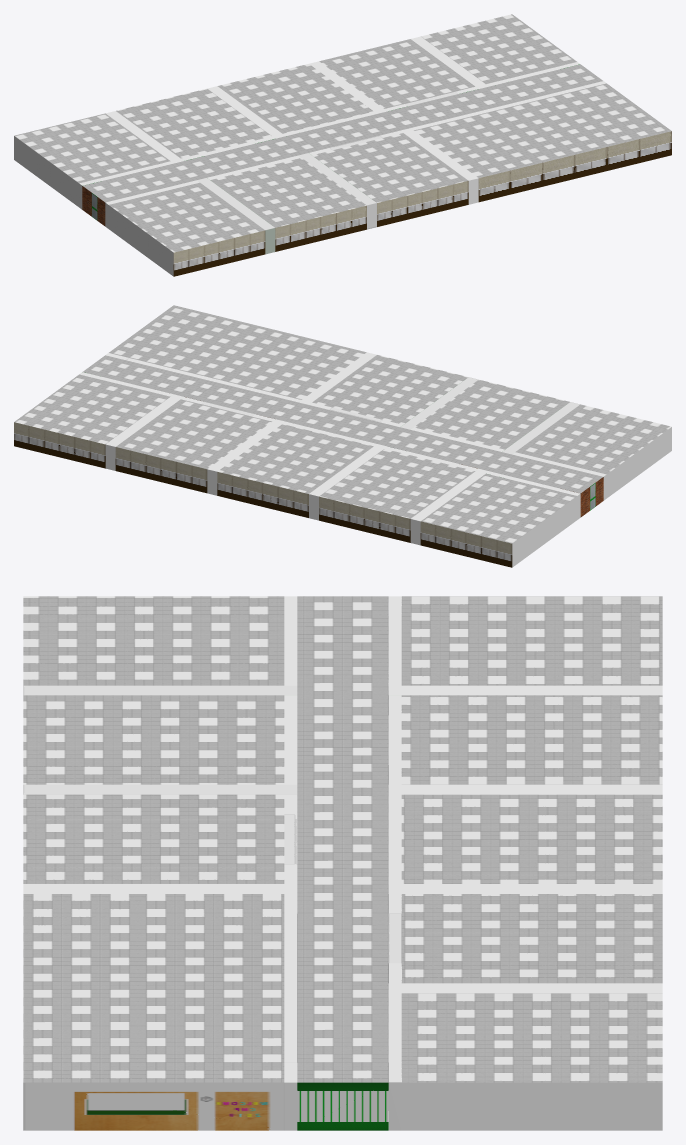
3 views of the same model, one above another, from view 1: azimuth 30°, elevation 25°; view 2: azimuth 150°, elevation 25°; view 3: azimuth 270°, elevation 25° (orthographic). The views are drawn at different scales.
Parts seen in each view (by area): view 1: Cieling_Plane.005, Class1CurtainsWall_Plane.032, Class4CurtainsWall_Plane.036, Class3CurtainsWall_Plane.034, Class2CurtainsWall_Plane.033, Class4Wall_Plane.051, Lab4Wall_Plane.050, Class1-Class2Wall_Plane.047, Class3-Class4Wall_Plane.045, Class2-Class3Wall_Plane.046, Lab3-Lab4Wall_Plane.044, Lab2-Lab3Wall_Plane.029 (+4 smaller); view 2: Cieling_Plane.005, Lab4CurtainsWall_Plane.039, Lab1CurtainsWall_Plane.042, LibraryCurtains_Plane.043, Lab2CurtainsWall_Plane.041, Lab3CurtainsWall_Plane.040, Class4Wall_Plane.051, Lab4Wall_Plane.050, Library-Lab1Wall_Plane.038, Lab1-Lab2Wall_Plane.035, Lab3-Lab4Wall_Plane.044, Lab2-Lab3Wall_Plane.029 (+5 smaller); view 3: Cieling_Plane.005, LibraryWall_Plane.049, Class1Wall_Plane.030, Gate_Plane.048, Class2-Class3Wall_Plane.046, Library-Lab1Wall_Plane.038, Lab2-Lab3Wall_Plane.029, Class3-Class4Wall_Plane.045, Lab3-Lab4Wall_Plane.044, Lab1-Lab2Wall_Plane.035, Class1-Class2Wall_Plane.047, Class1-CorridorWall_Plane.027 (+2 smaller).
Part boxes in pixels (x1,y1,x2,y2): Cieling_Plane.005: (14, 14, 671, 252); Class1CurtainsWall_Plane.032: (478, 131, 671, 202); Class4CurtainsWall_Plane.036: (173, 230, 265, 276); Class3CurtainsWall_Plane.034: (275, 205, 366, 251); Class2CurtainsWall_Plane.033: (377, 181, 468, 226); Class4Wall_Plane.051: (108, 205, 173, 276); Lab4Wall_Plane.050: (14, 136, 79, 207); Class1-Class2Wall_Plane.047: (400, 128, 478, 204); Class3-Class4Wall_Plane.045: (197, 178, 275, 254); Class2-Class3Wall_Plane.046: (299, 153, 376, 229); Lab3-Lab4Wall_Plane.044: (106, 111, 183, 163); Lab2-Lab3Wall_Plane.029: (207, 86, 285, 138); Cieling_Plane.005: (14, 305, 671, 543); Lab4CurtainsWall_Plane.039: (420, 521, 512, 567); Lab1CurtainsWall_Plane.042: (115, 447, 207, 493); LibraryCurtains_Plane.043: (14, 422, 105, 468); Lab2CurtainsWall_Plane.041: (217, 472, 308, 517); Lab3CurtainsWall_Plane.040: (319, 496, 410, 542); Class4Wall_Plane.051: (606, 427, 671, 498); Lab4Wall_Plane.050: (512, 496, 577, 567); Library-Lab1Wall_Plane.038: (105, 394, 183, 470); Lab1-Lab2Wall_Plane.035: (207, 419, 285, 495); Lab3-Lab4Wall_Plane.044: (410, 469, 488, 545); Lab2-Lab3Wall_Plane.029: (309, 444, 387, 520); Cieling_Plane.005: (23, 596, 662, 1082); LibraryWall_Plane.049: (401, 1082, 662, 1130); Class1Wall_Plane.030: (23, 1082, 284, 1130); Gate_Plane.048: (297, 1082, 388, 1130); Class2-Class3Wall_Plane.046: (23, 784, 297, 794); Library-Lab1Wall_Plane.038: (388, 983, 662, 993); Lab2-Lab3Wall_Plane.029: (388, 784, 662, 794); Class3-Class4Wall_Plane.045: (23, 685, 297, 695); Lab3-Lab4Wall_Plane.044: (388, 685, 662, 695); Lab1-Lab2Wall_Plane.035: (388, 884, 662, 913); Class1-Class2Wall_Plane.047: (23, 884, 297, 893); Class1-CorridorWall_Plane.027: (284, 913, 297, 1062).
Size of the model in its own units: 208 by 9.6 by 115.
